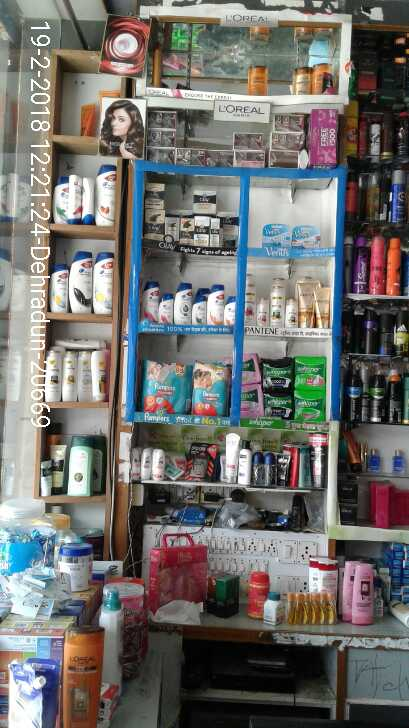venus: (291, 224, 322, 248), (264, 223, 291, 248)
